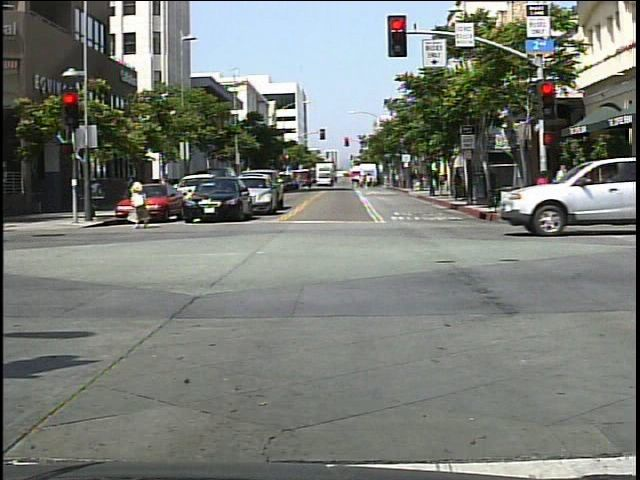person: (125, 170, 156, 234), (549, 160, 575, 211), (531, 168, 557, 189)
